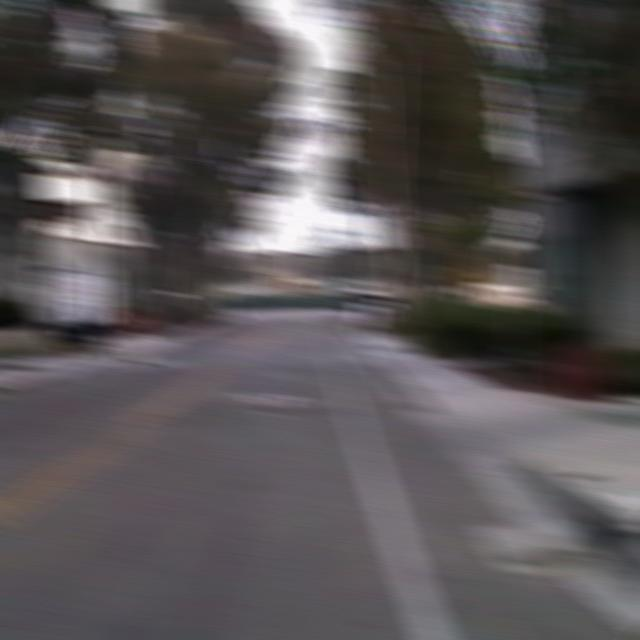pedestrianCrossing: (452, 250, 488, 291)
